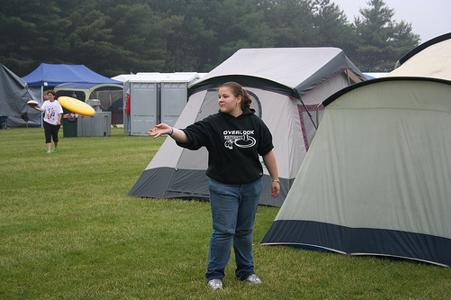person: (146, 82, 281, 291)
